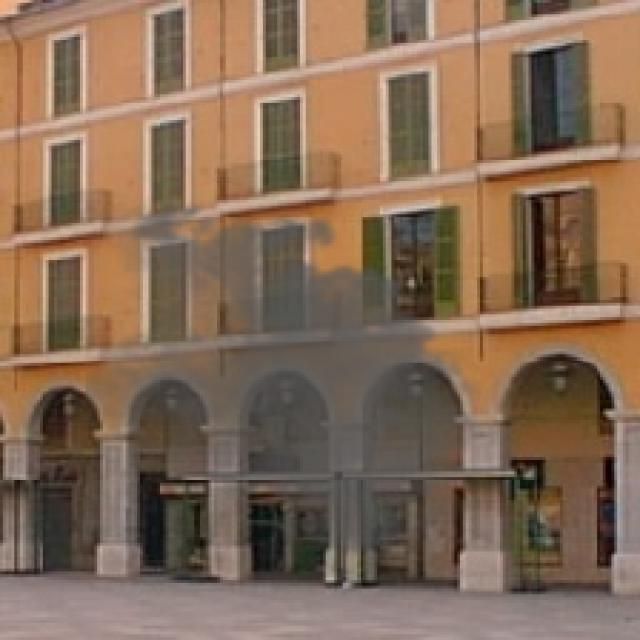Smoke: (86, 191, 497, 560)
